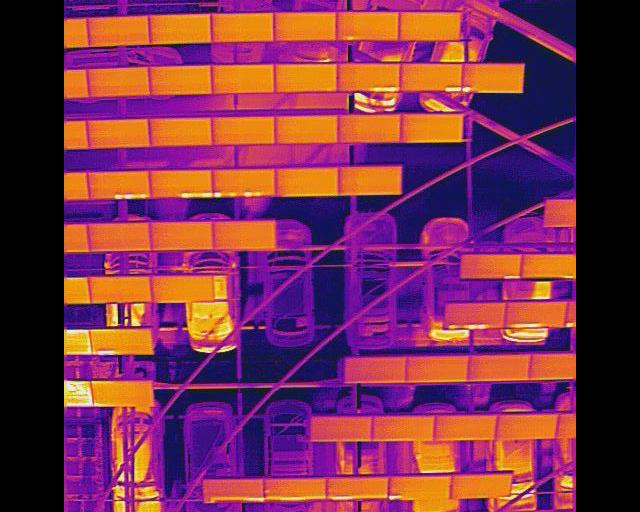Cell: (462, 62, 524, 93)
No-Anomaly: (273, 63, 337, 92), (212, 116, 275, 145), (335, 11, 398, 40), (213, 220, 276, 249), (272, 12, 337, 40), (86, 223, 153, 250), (400, 112, 462, 141), (85, 69, 151, 96), (87, 17, 150, 45), (275, 115, 338, 143), (149, 222, 214, 249), (148, 14, 213, 41), (86, 275, 151, 302), (86, 120, 151, 147), (210, 65, 275, 92), (404, 355, 469, 382), (467, 354, 531, 381), (151, 274, 214, 301), (149, 66, 212, 93), (149, 118, 212, 145), (210, 13, 273, 40), (275, 168, 338, 195), (398, 13, 461, 40), (338, 167, 401, 194), (89, 380, 155, 405), (344, 357, 408, 382), (495, 413, 558, 438), (434, 414, 497, 439), (372, 415, 435, 440), (338, 115, 401, 140), (309, 416, 372, 441), (265, 477, 326, 500), (450, 474, 511, 496), (327, 477, 387, 499), (204, 478, 263, 500), (522, 254, 576, 278)
Unclassified: (401, 63, 463, 94), (338, 62, 400, 91), (149, 170, 214, 197), (212, 169, 274, 196), (505, 300, 567, 327), (86, 171, 150, 197), (91, 328, 154, 354), (445, 302, 506, 328), (459, 255, 522, 280), (387, 476, 450, 499)
